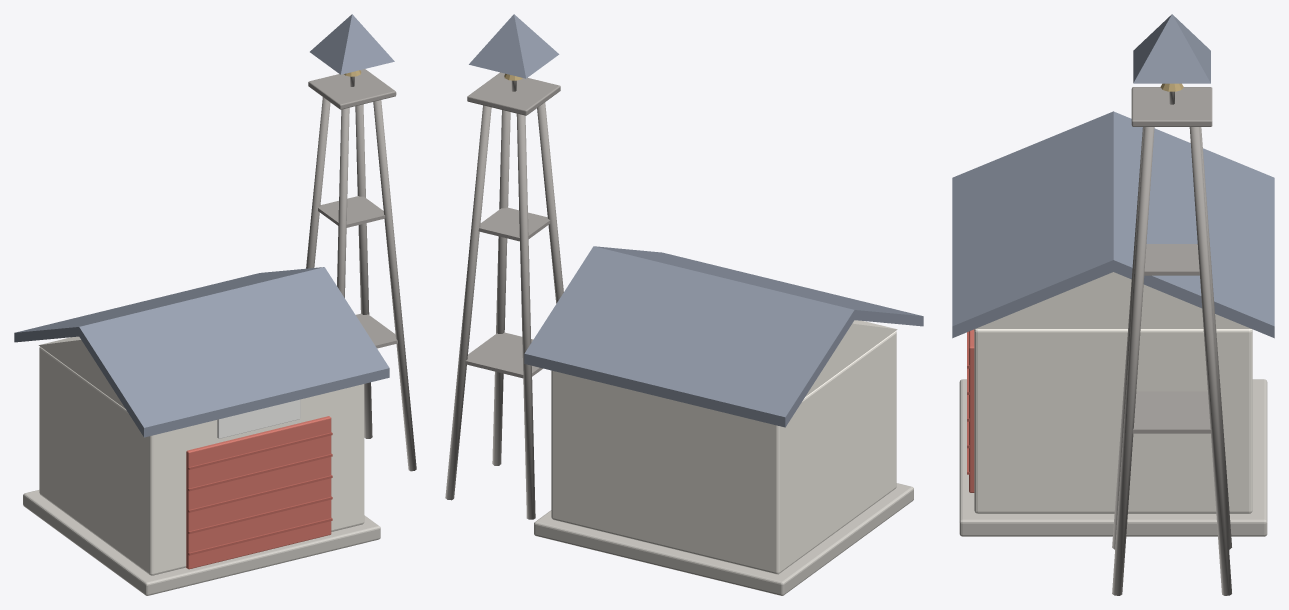
File: fire_shed.glb
The picture shows the model from 3 angles, left to right: view 1: azimuth 30°, elevation 25°; view 2: azimuth 150°, elevation 25°; view 3: azimuth 270°, elevation 25°; orthographic projection. The views are drawn at different scales.
Parts seen in each view (by area): view 1: fire_shed; view 2: fire_shed; view 3: fire_shed.
Part boxes in pixels (x1,y1,x2,y2): fire_shed: (14,14,416,595); fire_shed: (445,14,923,595); fire_shed: (952,14,1274,595).
Size of the model in its own units: 6.61 by 8.39 by 4.4.
